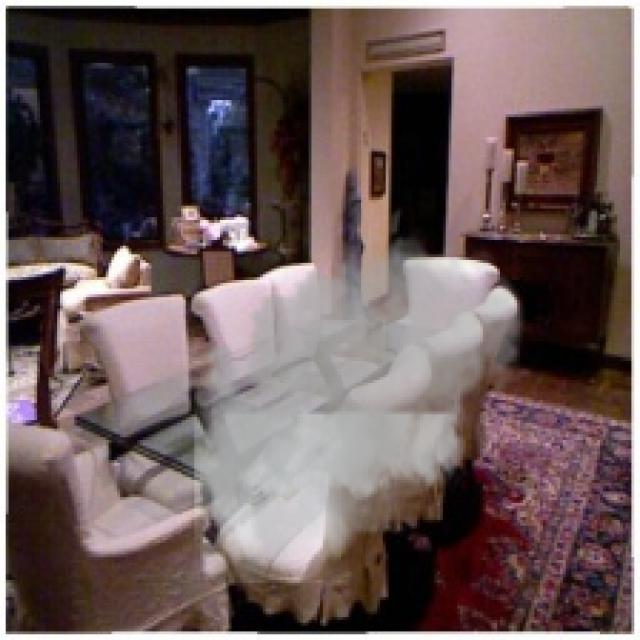smoke: (180, 223, 531, 583)
